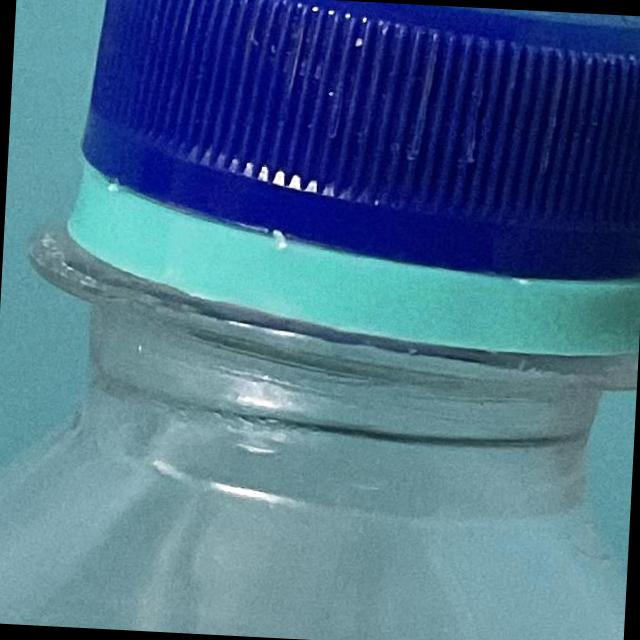Good-cap-Df0S: (12, 0, 640, 345)
